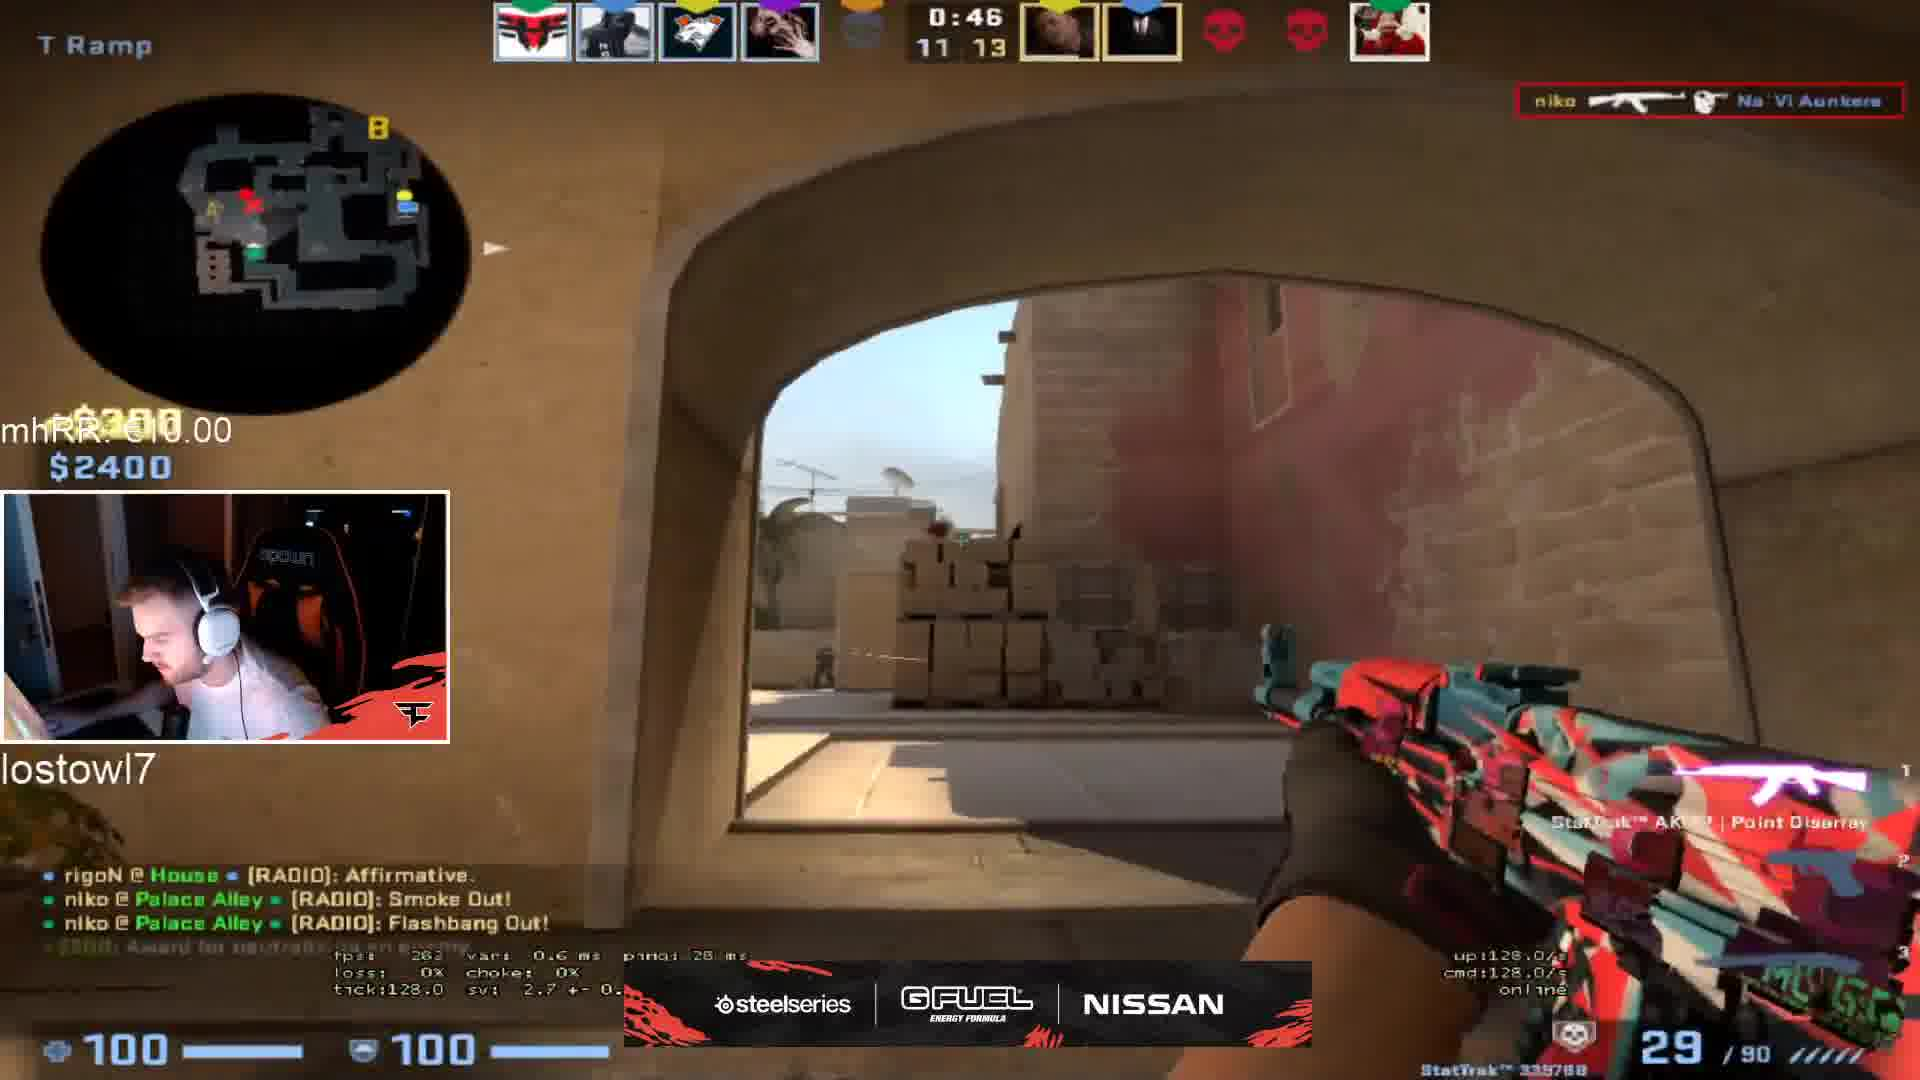enemy: (808, 641, 841, 695)
